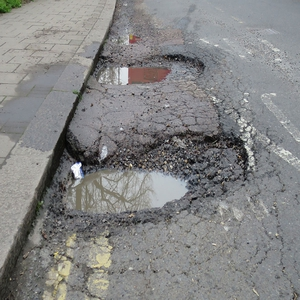pothole: (38, 127, 259, 233), (90, 52, 206, 89)
